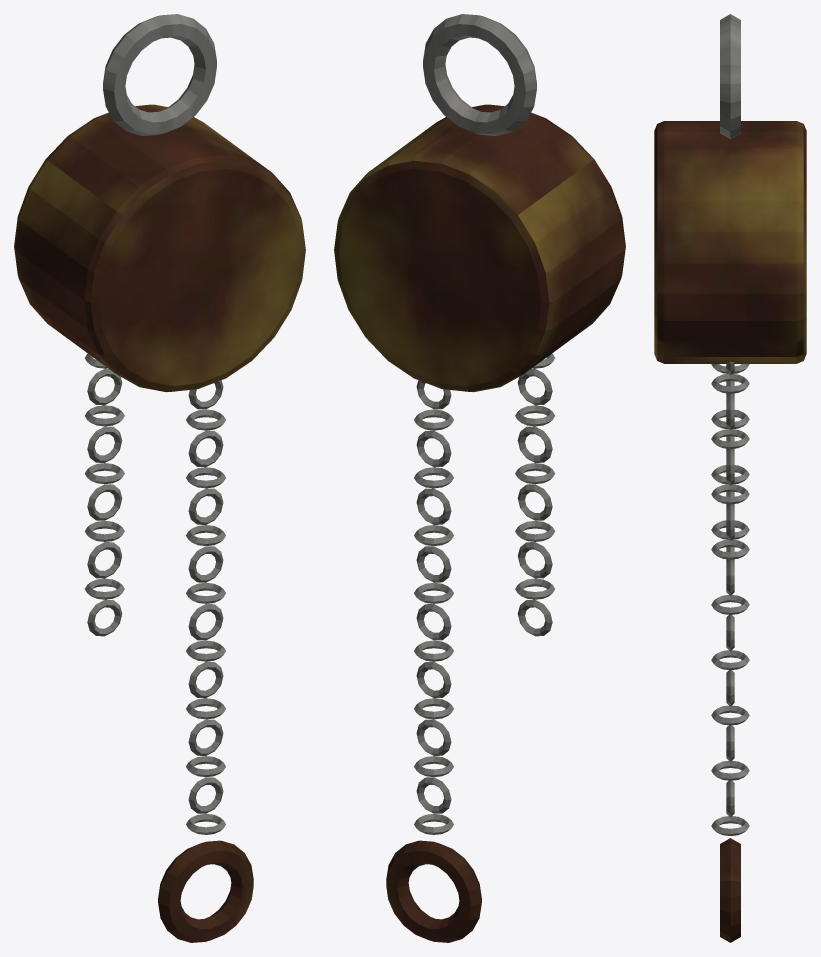
Rendered from HM22_ChainHoist.glb.
3 views of the same model, side by side, from view 1: azimuth 30°, elevation 25°; view 2: azimuth 150°, elevation 25°; view 3: azimuth 270°, elevation 25° (orthographic). The views are drawn at different scales.
Parts seen in each view (by area): view 1: HM22_ChainHoist; view 2: HM22_ChainHoist; view 3: HM22_ChainHoist.
Boxes of the visible parts, box(x1,y1,x2,y2) form: HM22_ChainHoist: box(14, 14, 305, 942); HM22_ChainHoist: box(334, 14, 625, 942); HM22_ChainHoist: box(654, 14, 806, 942).
Bounding box in the file's own units: 0.2464 × 1 × 0.154.
2 materials, 2 textured.
